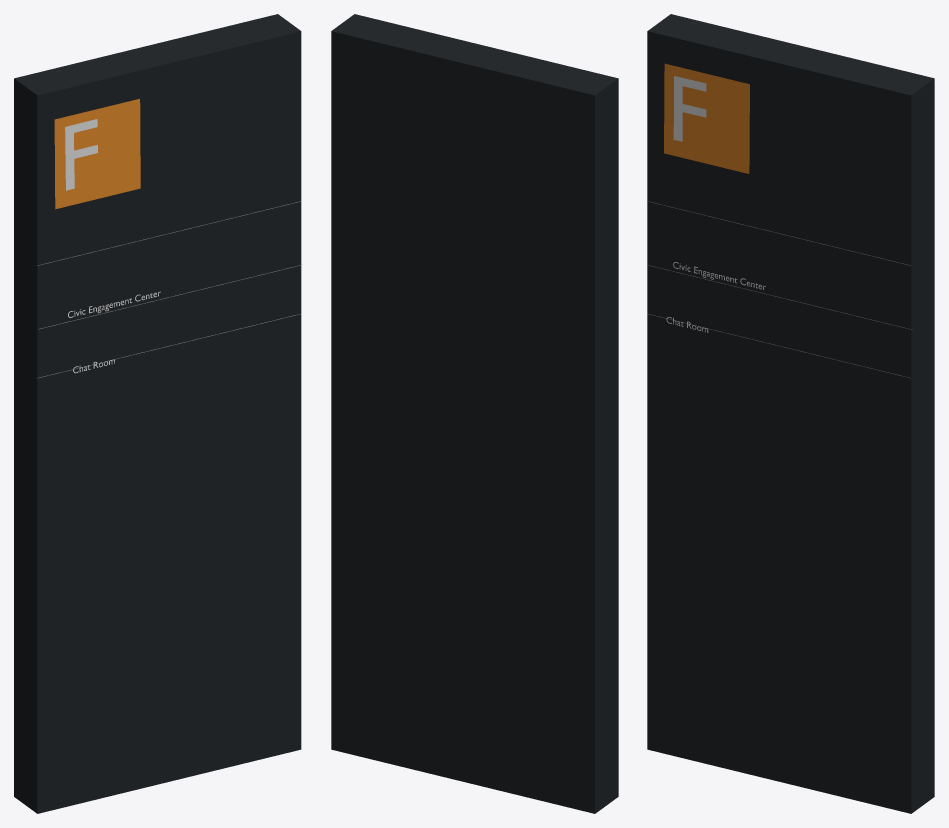
File: 0201kannbann.glb
The picture shows the model from 3 angles, left to right: view 1: azimuth 30°, elevation 25°; view 2: azimuth 150°, elevation 25°; view 3: azimuth 330°, elevation 25°; orthographic projection.
Visible parts, largest first — view 1: Cube, Plane, Text; view 2: Cube; view 3: Cube, Plane, Text.
Boxes of the visible parts, <box> form: Cube: <box>14,14,301,813</box>; Plane: <box>54,98,140,209</box>; Text: <box>65,119,97,190</box>; Cube: <box>331,14,618,813</box>; Cube: <box>647,14,934,813</box>; Plane: <box>664,63,749,173</box>; Text: <box>673,76,706,141</box>.
Size of the model in its own units: 0.8268 by 2.14 by 0.1882.
